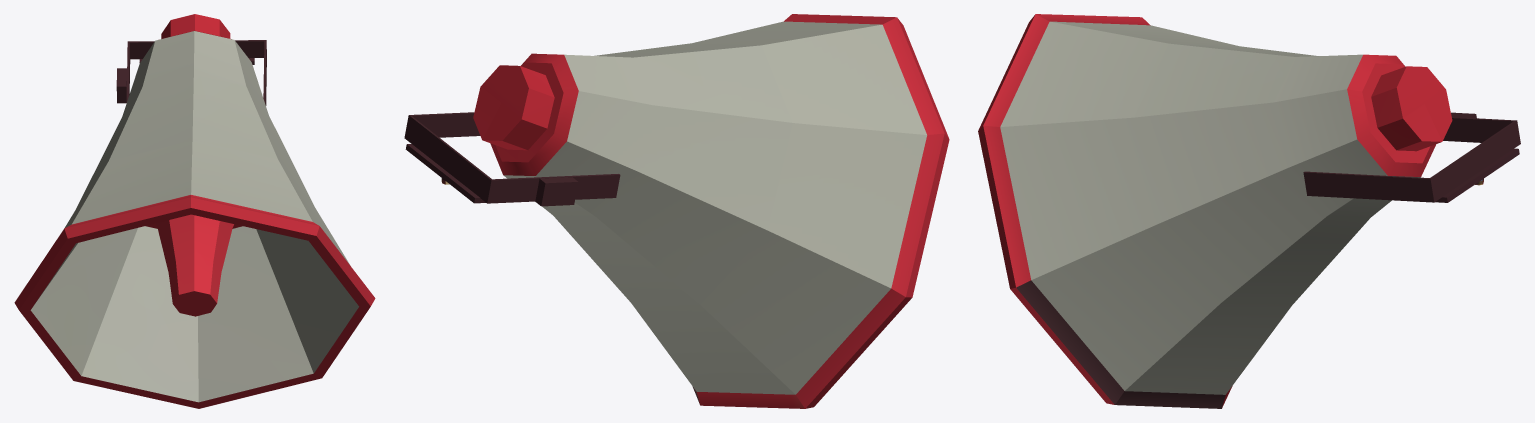
File: loudspeaker.fbx
3 views of the same model, side by side, from view 1: azimuth 30°, elevation 25°; view 2: azimuth 150°, elevation 25°; view 3: azimuth 270°, elevation 25° (orthographic). The views are drawn at different scales.
Parts seen in each view (by area): view 1: polySurface1075; view 2: polySurface1075; view 3: polySurface1075.
Boxes of the visible parts, left/top/right/bottom form: polySurface1075: left=14, top=14, right=375, bottom=408; polySurface1075: left=404, top=14, right=949, bottom=408; polySurface1075: left=978, top=14, right=1520, bottom=408.
Size of the model in its own units: 3.05 by 2.79 by 3.55.
Materials: 1 (1 with a texture image).
